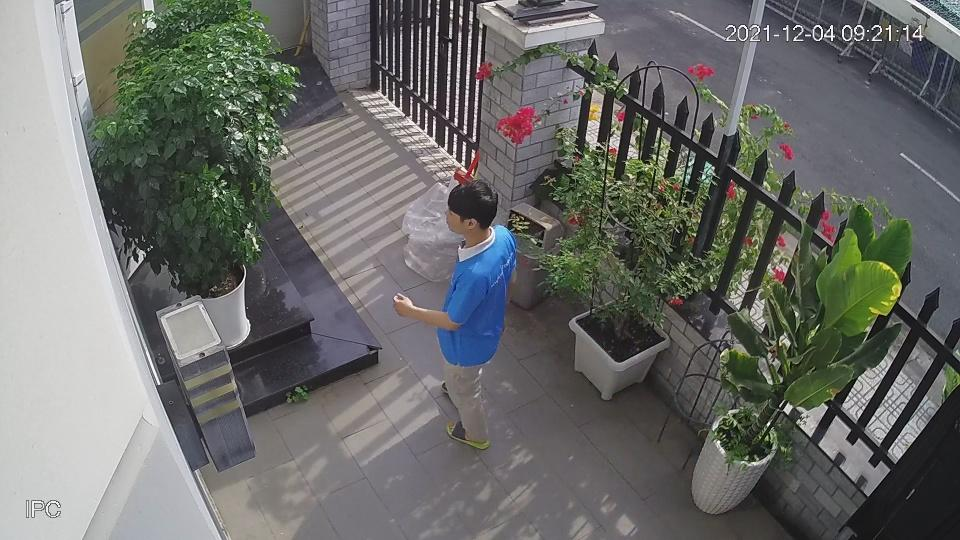person: (393, 181, 519, 449)
